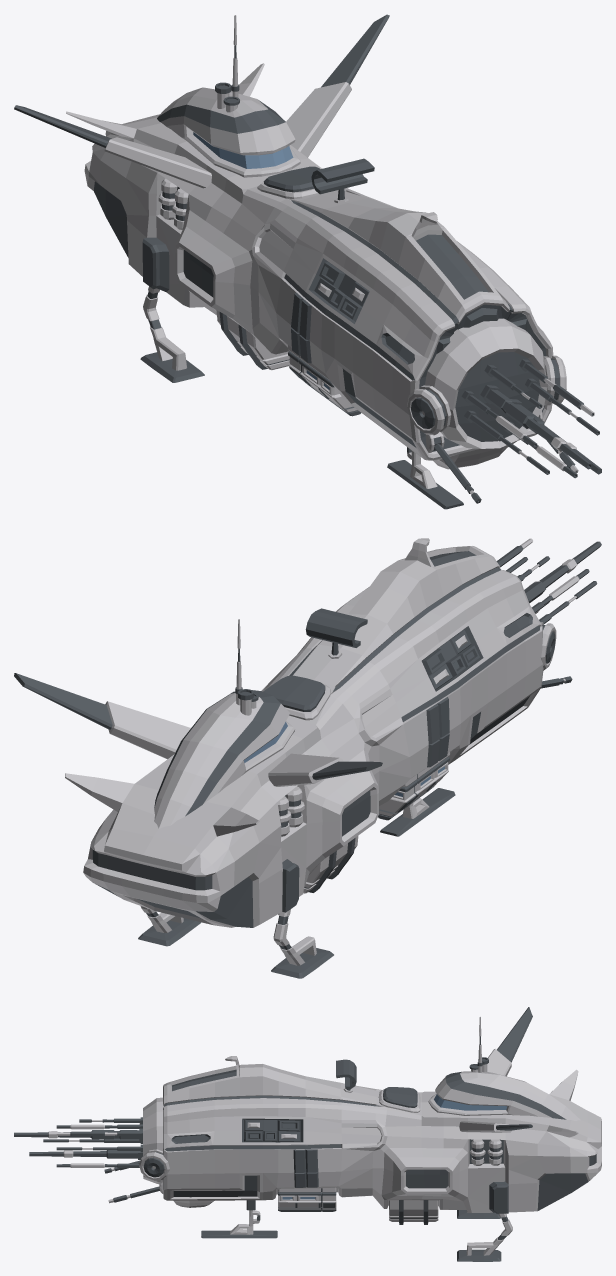
File: Dropship_05_Neutral.fbx
The picture shows the model from 3 angles, top to bottom: view 1: azimuth 30°, elevation 25°; view 2: azimuth 150°, elevation 25°; view 3: azimuth 270°, elevation 25°; orthographic projection. The views are drawn at different scales.
Visible parts, largest first — view 1: Dropship_05_Neutral; view 2: Dropship_05_Neutral; view 3: Dropship_05_Neutral.
Boxes of the visible parts, x1,y1,x2,y2 form: Dropship_05_Neutral: [14, 14, 601, 509]; Dropship_05_Neutral: [14, 538, 601, 978]; Dropship_05_Neutral: [14, 1007, 601, 1261].
Size of the model in its own units: 1028 by 878 by 2156.
Materials: 3 (3 with a texture image).
